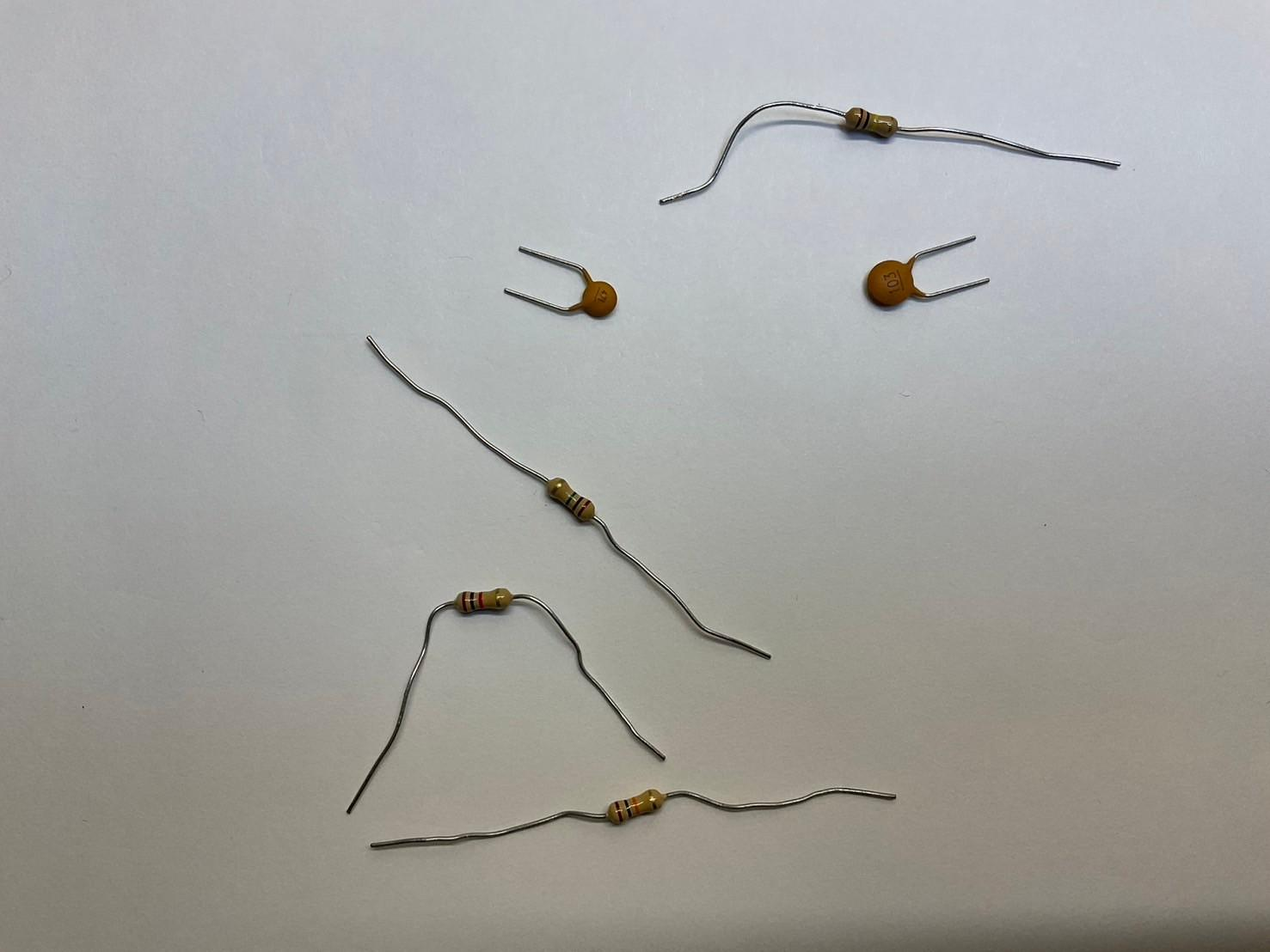resistor: (546, 476, 597, 523), (842, 103, 903, 141), (607, 788, 664, 826), (455, 585, 514, 616)
